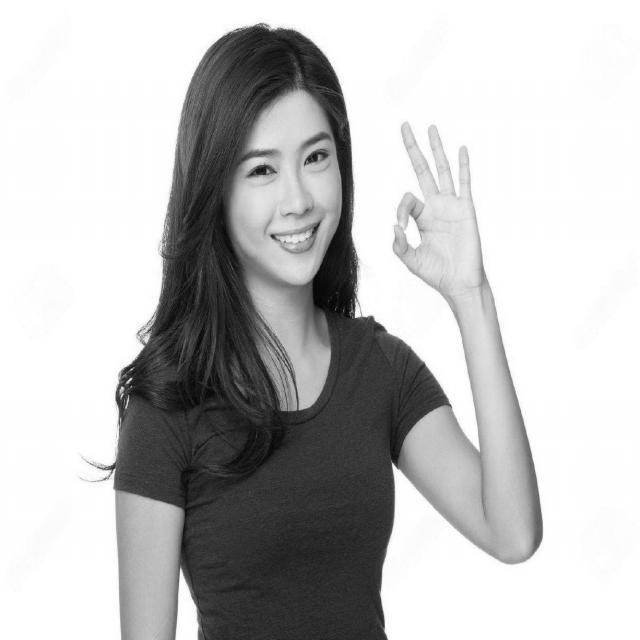perfect: (387, 110, 491, 322)
